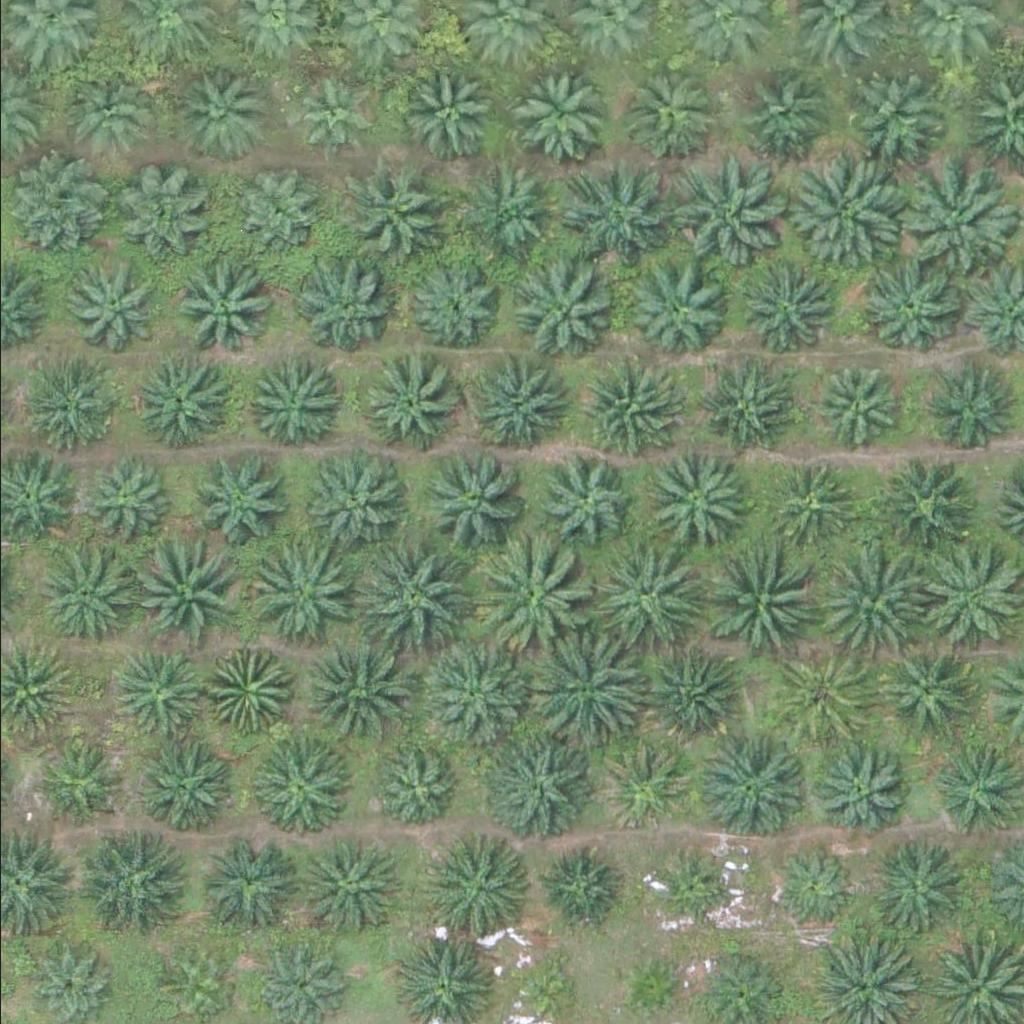Kelapa_Sawit: (586, 536, 700, 649), (814, 545, 928, 658), (240, 541, 353, 654), (356, 540, 469, 653), (907, 539, 1020, 652), (787, 153, 900, 266), (903, 166, 1016, 279), (418, 641, 532, 753), (711, 547, 825, 659), (560, 154, 673, 266), (26, 540, 139, 652), (136, 535, 249, 647), (473, 538, 586, 650), (525, 628, 638, 740), (304, 633, 417, 745), (484, 731, 597, 843), (73, 822, 186, 934), (694, 730, 807, 842), (671, 160, 784, 272), (835, 54, 948, 166), (393, 63, 494, 163), (512, 65, 613, 165), (621, 61, 722, 161), (460, 160, 561, 260), (349, 163, 450, 263), (111, 162, 212, 262), (7, 160, 108, 260), (626, 257, 727, 357), (172, 263, 273, 363), (57, 256, 158, 356), (129, 353, 230, 453), (358, 355, 459, 455), (582, 356, 683, 456), (531, 453, 632, 553), (421, 451, 522, 551), (185, 446, 286, 546), (130, 738, 231, 838), (254, 737, 355, 837), (290, 839, 391, 939), (199, 837, 300, 937), (866, 837, 967, 937), (807, 739, 908, 839), (879, 642, 980, 742), (694, 358, 795, 458), (861, 257, 962, 357), (735, 255, 836, 355), (508, 262, 608, 362), (291, 253, 391, 353), (19, 361, 119, 461), (243, 356, 343, 456), (472, 363, 572, 463), (641, 447, 741, 547), (304, 450, 404, 550), (637, 643, 737, 743), (429, 836, 529, 936), (771, 648, 871, 748), (875, 459, 975, 559), (180, 72, 268, 160), (230, 167, 318, 255), (117, 650, 205, 738), (42, 744, 130, 832), (766, 842, 854, 930), (934, 745, 1022, 833), (768, 458, 856, 546), (806, 360, 894, 448), (739, 68, 827, 156), (286, 66, 375, 153), (601, 745, 689, 832), (59, 67, 147, 154), (409, 262, 497, 349), (84, 456, 172, 543), (209, 648, 297, 735), (367, 749, 455, 836), (537, 844, 625, 931), (614, 948, 690, 1023), (644, 854, 719, 929)
